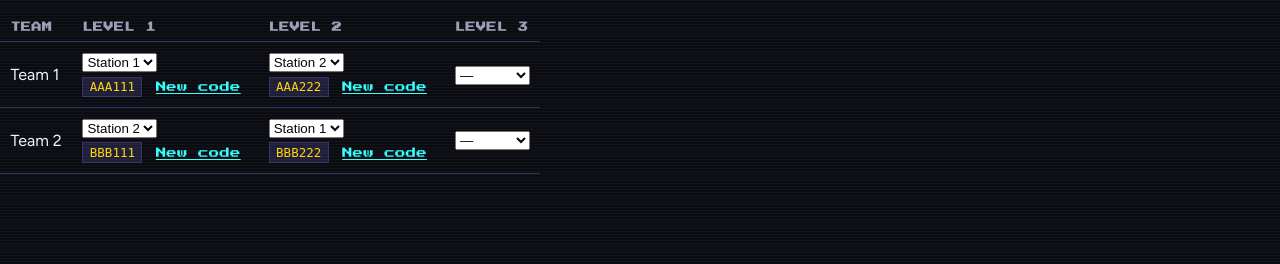
Test: RouteGrid › explains a location this team already visits
The image size is (1280, 264).
Select "Station 1" in the dropdown named "Team 1 level 3 location": (492, 75) [455,66,530,85]
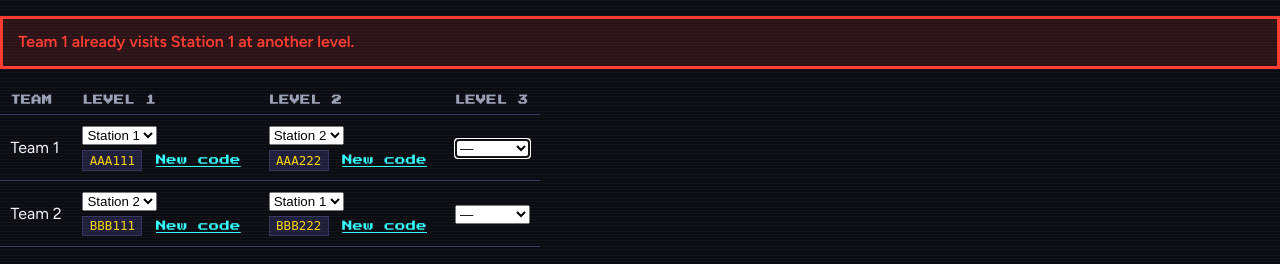
expect the text "Team 1 already visits Station 1 at another level." is shown: met, box [0,16,1279,69]
